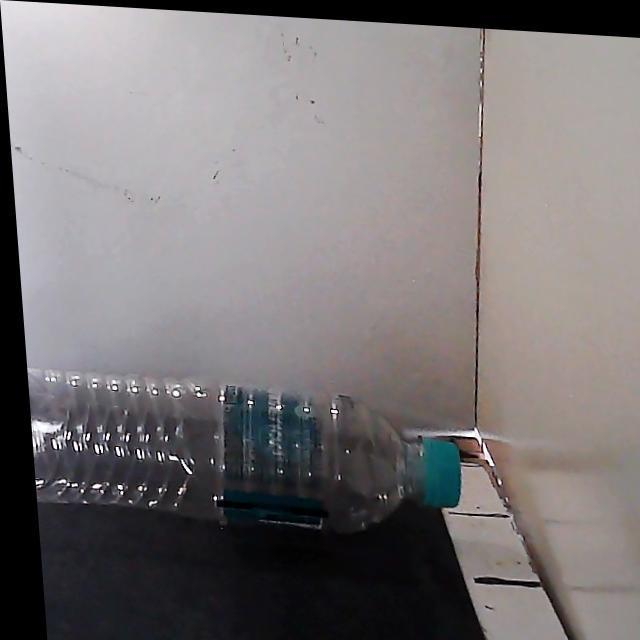plastico: (29, 369, 460, 532)
